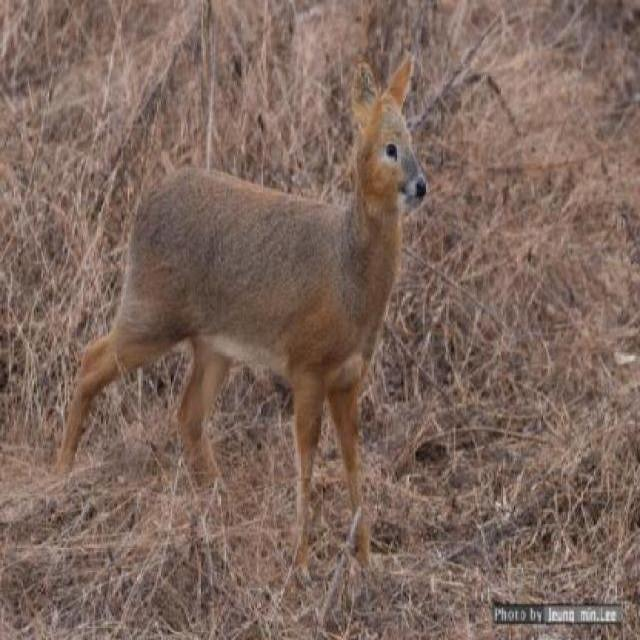deer: (71, 52, 431, 565)
